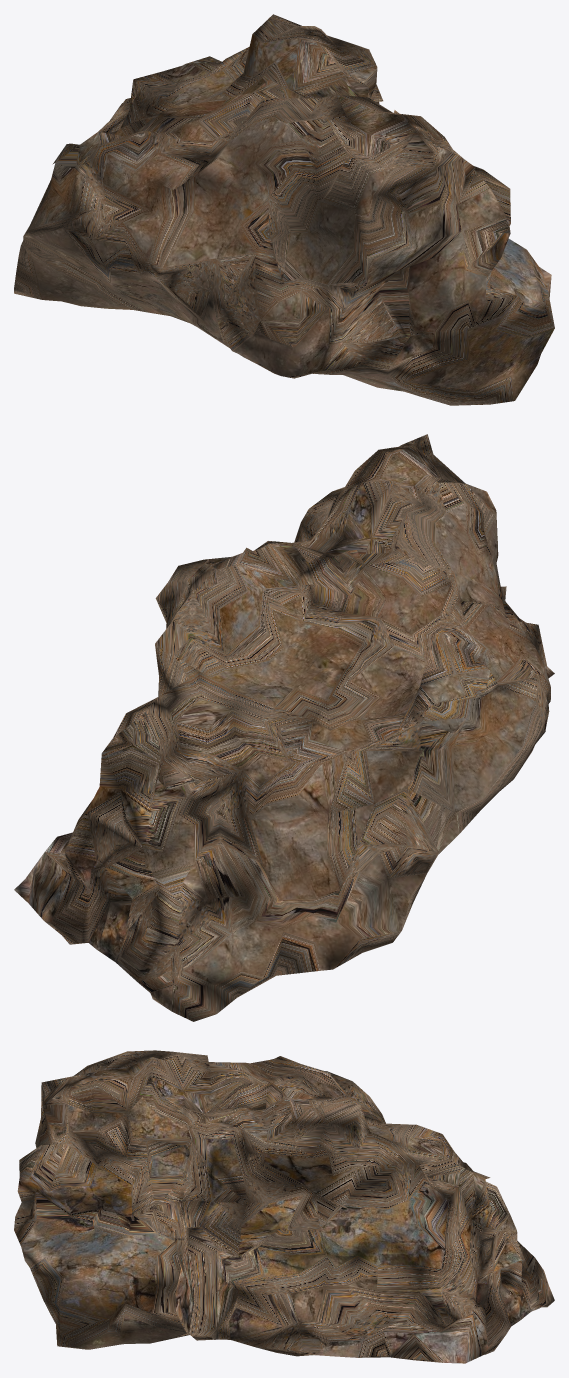
File: boulder_01_rt.gltf
3 renders of one model, top to bottom at view 1: azimuth 30°, elevation 25°; view 2: azimuth 150°, elevation 25°; view 3: azimuth 270°, elevation 25°, orthographic. The views are drawn at different scales.
Visible parts, largest first — view 1: boulder_01; view 2: boulder_01; view 3: boulder_01.
Boxes of the visible parts, box(x1,y1,x2,y2) form: boulder_01: box(14, 14, 554, 405); boulder_01: box(14, 434, 554, 1021); boulder_01: box(14, 1050, 554, 1363).
Bounding box in the file's own units: 1.25 × 0.9856 × 1.81.
Materials: 1 (1 with a texture image).
